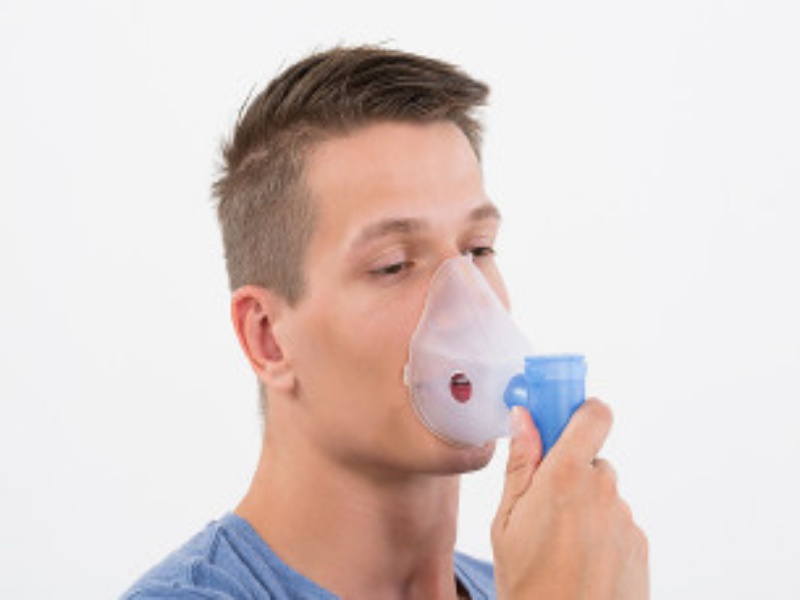mask: (204, 51, 591, 468)
